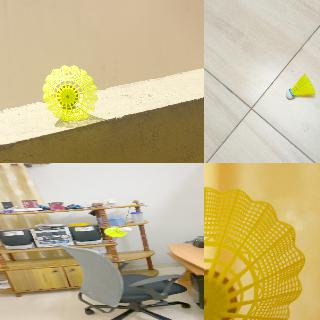shuttlecock: (204, 186, 306, 319), (42, 65, 98, 121), (284, 72, 316, 100), (105, 227, 132, 237)
